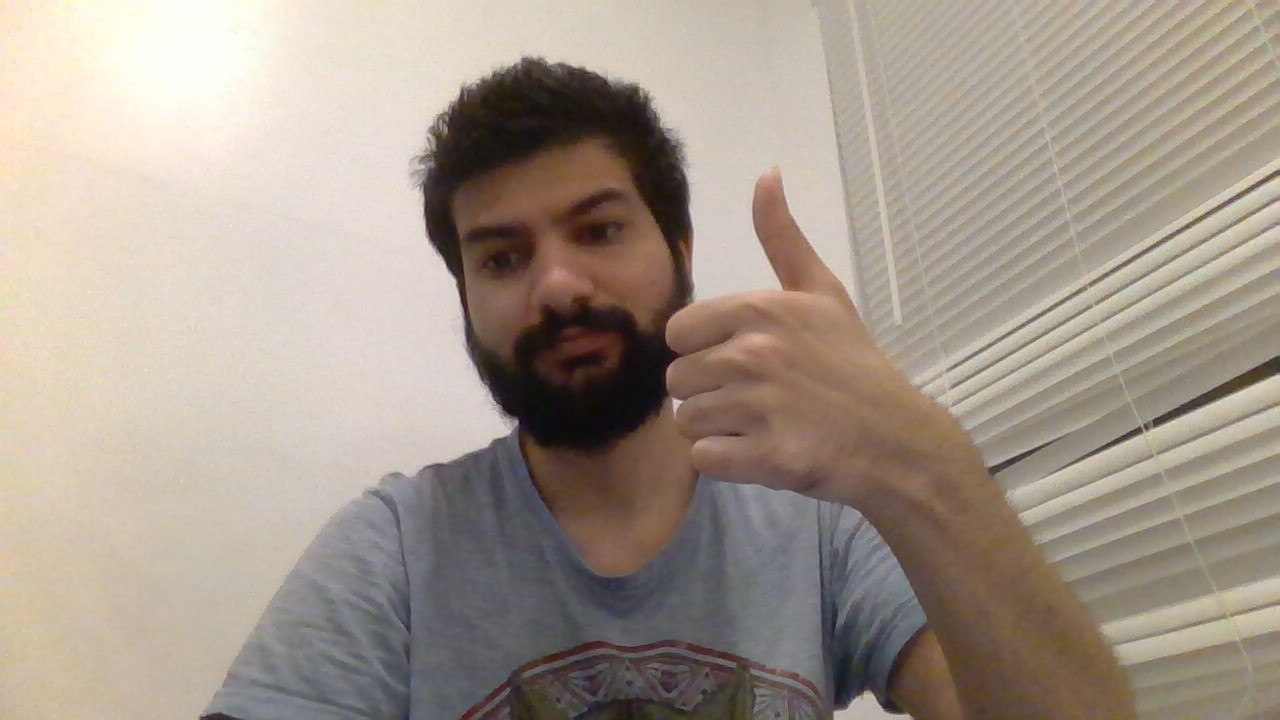up: (657, 162, 874, 496)
